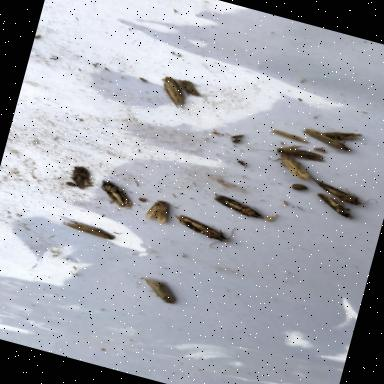pbw: (246, 143, 320, 183), (169, 212, 236, 253), (304, 176, 380, 212), (300, 126, 356, 156), (210, 194, 266, 222), (61, 216, 118, 242), (274, 140, 328, 166), (312, 191, 358, 221), (96, 179, 138, 210), (154, 75, 190, 110), (139, 276, 180, 306), (322, 124, 365, 148), (66, 164, 96, 192), (142, 198, 172, 226), (174, 78, 204, 98)
